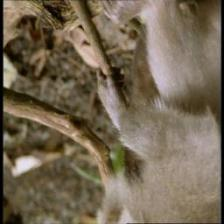monkey: (88, 171, 140, 223)
